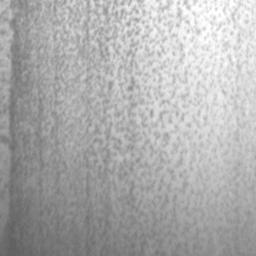Pitted surface: (0, 0, 256, 179)
